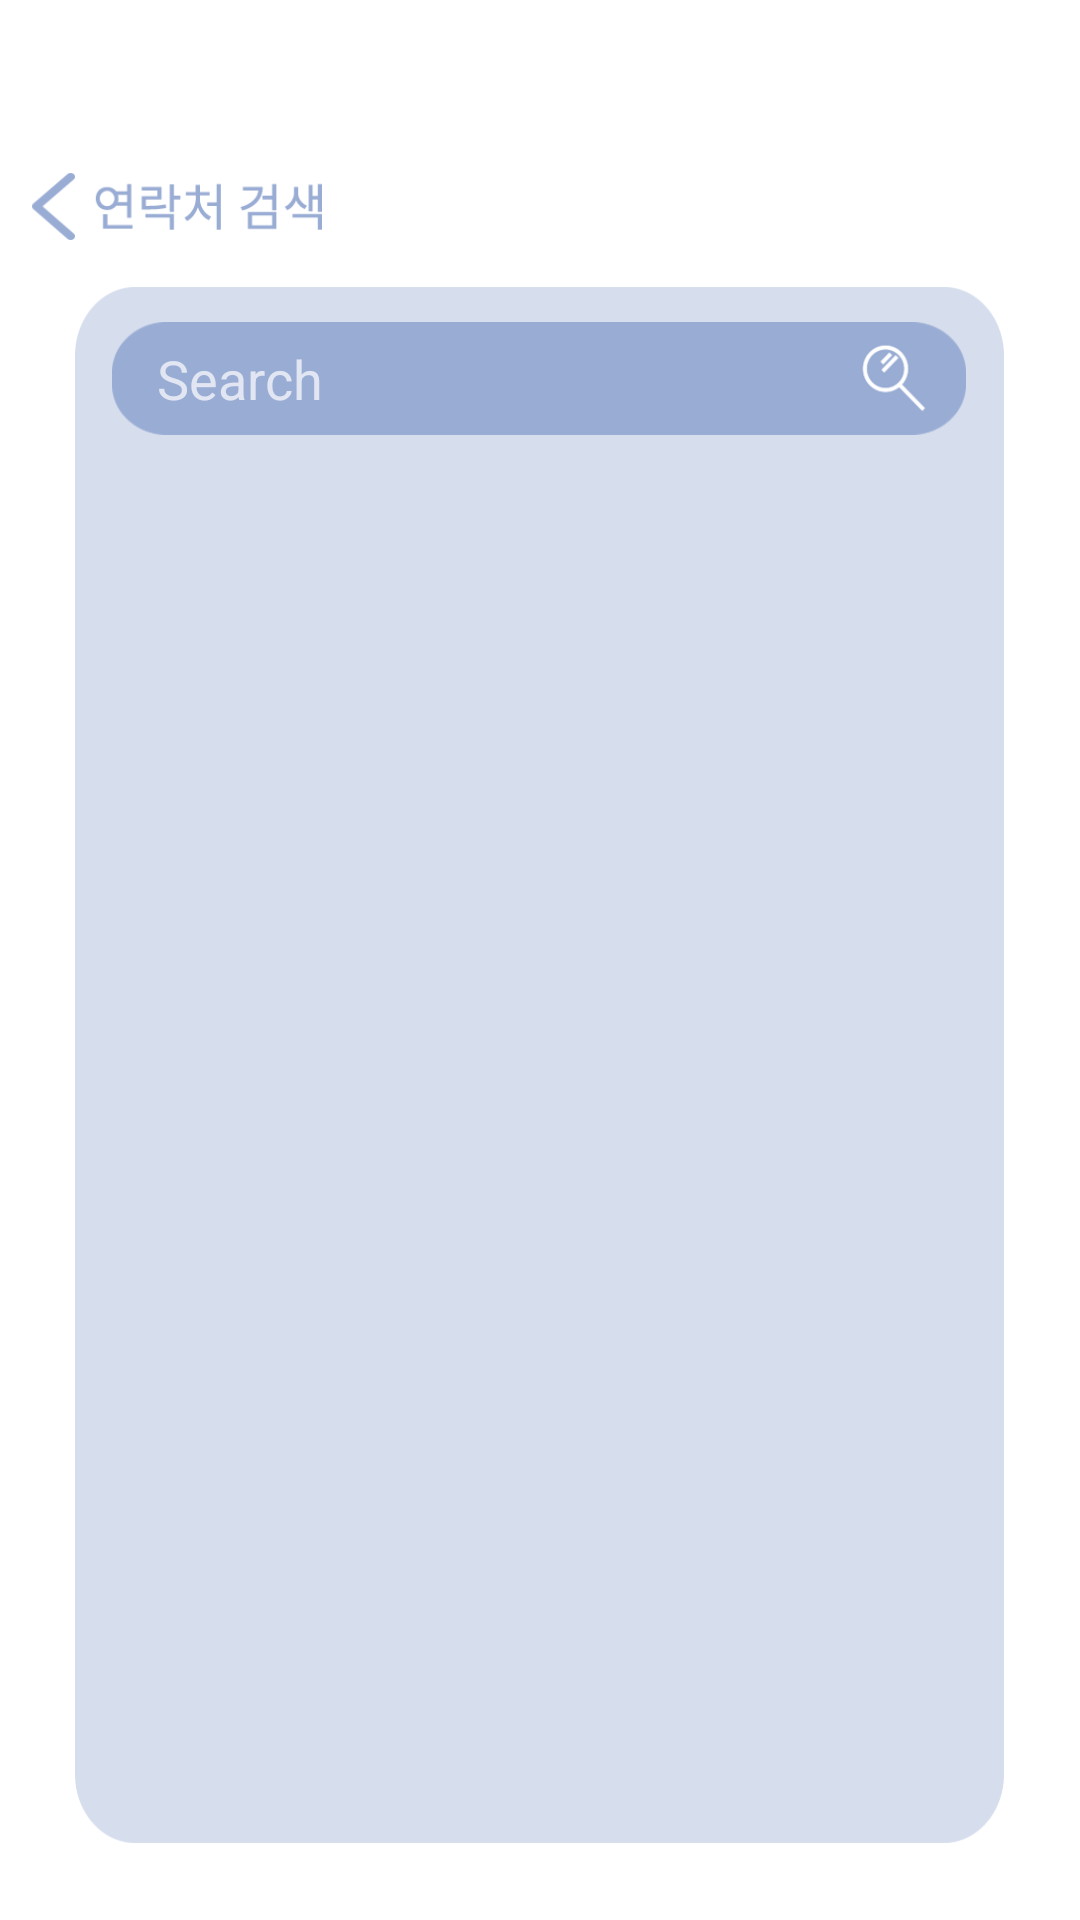

Where icons sit on this 1080px x 1920px app screen, as {"x1": x1, "y1": y1, "x2": x2, "y2": y2}:
back: {"x1": 32, "y1": 173, "x2": 75, "y2": 240}
